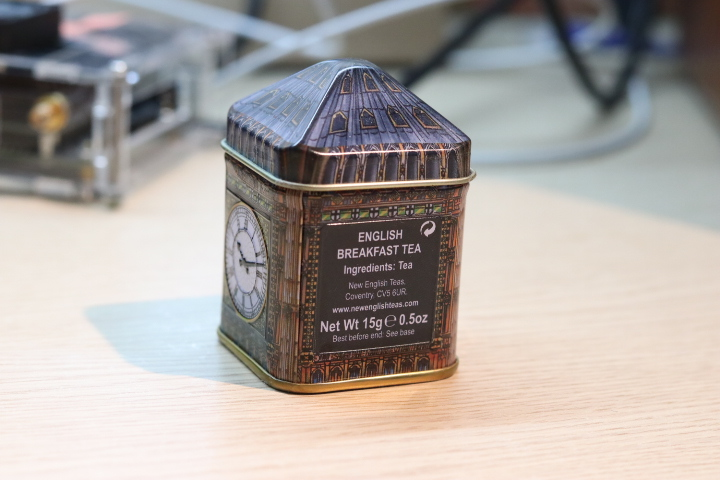Big Ben: (202, 52, 506, 410)
